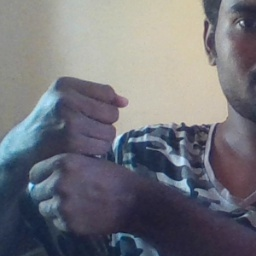G: (21, 76, 137, 239)
